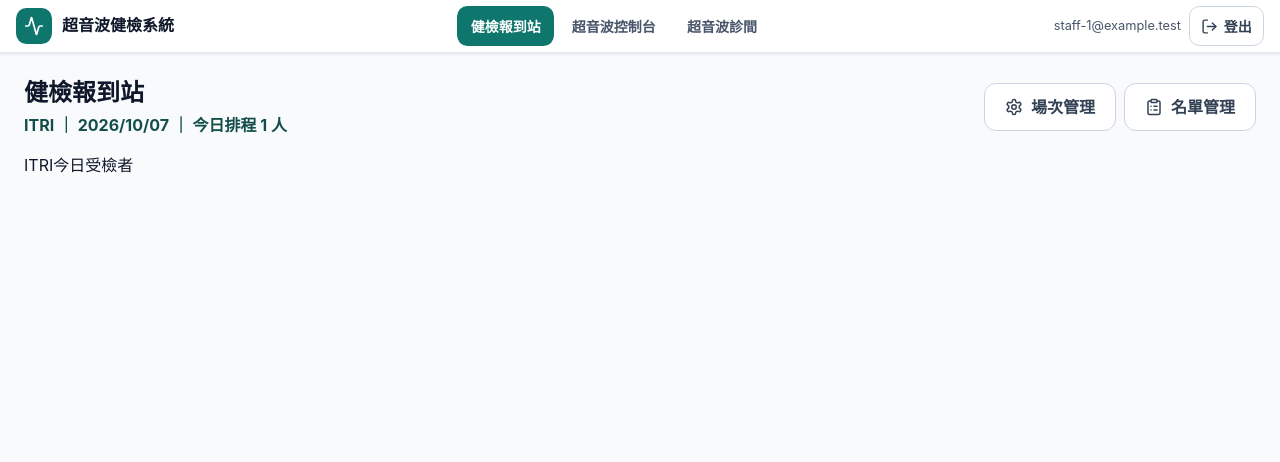
Test: App 帳號頁面權限、資料載入與同步 › 登出先嘗試釋放租約，檢查中無法釋放仍可登出交由TTL收回
Click the button "超音波診間". click: click(722, 26)
box: x1=673 y1=6 x2=771 y2=46
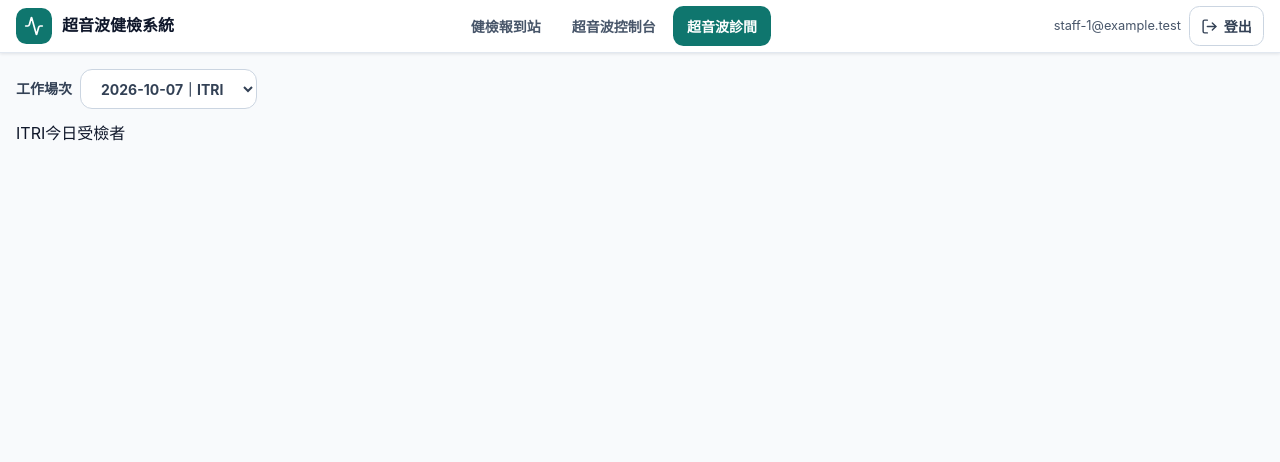
Click the button "登出". click: click(1226, 26)
box: x1=1189 y1=6 x2=1264 y2=46
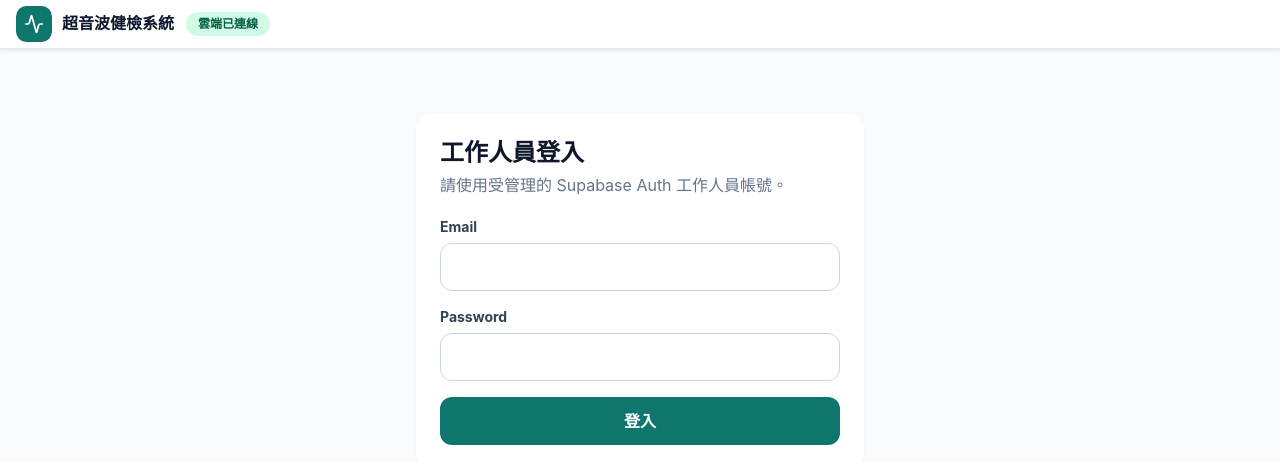
Expected: the text "工作人員登入" is shown, x1=440 y1=138 x2=584 y2=167
